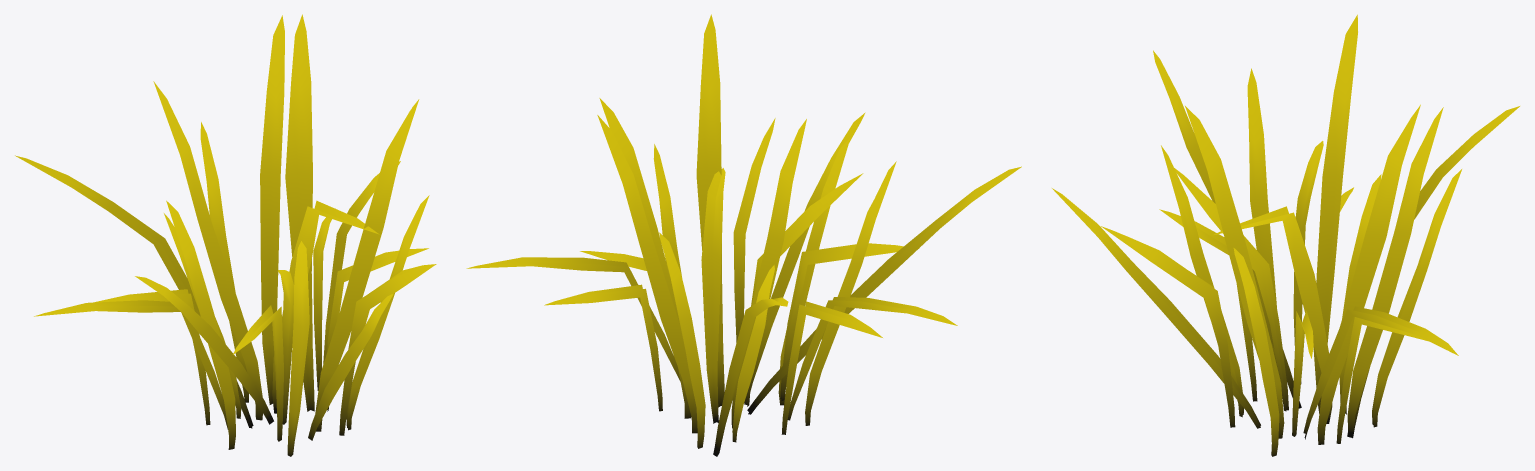
File: Grass_Wispy_Short.glb
The picture shows the model from 3 angles, left to right: view 1: azimuth 30°, elevation 25°; view 2: azimuth 150°, elevation 25°; view 3: azimuth 270°, elevation 25°; orthographic projection. The views are drawn at different scales.
Parts seen in each view (by area): view 1: Grass_Wispy_Short; view 2: Grass_Wispy_Short; view 3: Grass_Wispy_Short.
Part boxes in pixels (x1,y1,x2,y2): Grass_Wispy_Short: [15, 14, 436, 456]; Grass_Wispy_Short: [466, 14, 1021, 456]; Grass_Wispy_Short: [1052, 14, 1519, 456].
Size of the model in its own units: 1.32 by 1.07 by 1.21.
1 material, 1 textured.
